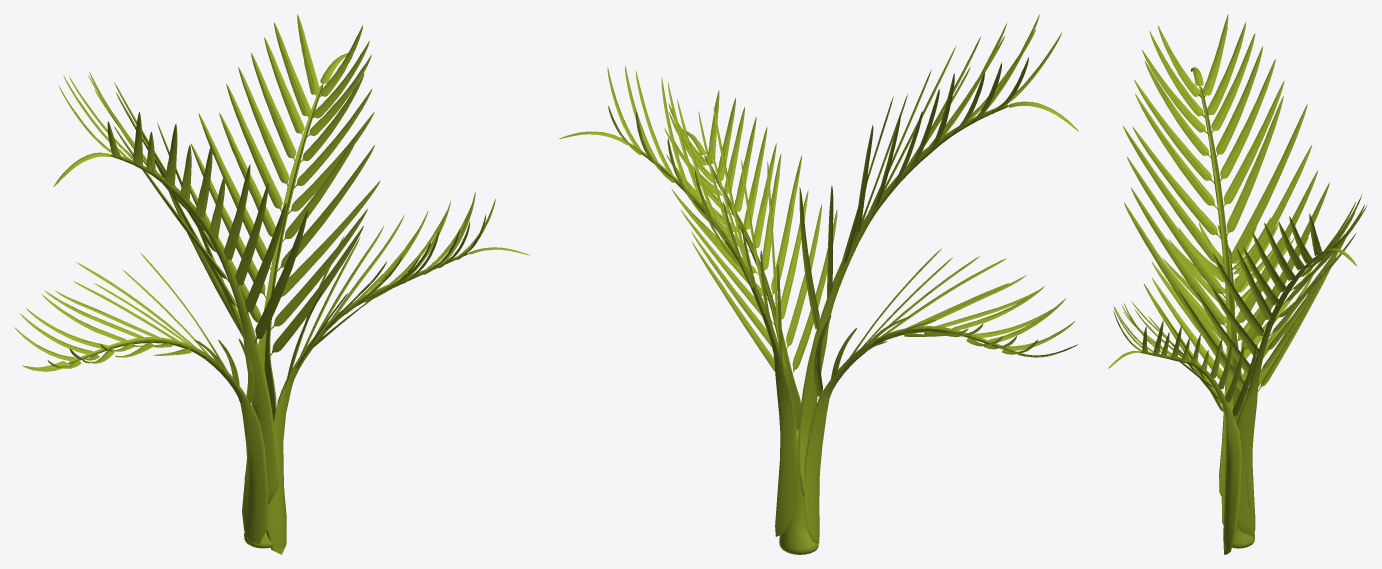
The model's file is Plants_Material__5_0.obj.
The picture shows the model from 3 angles, left to right: view 1: azimuth 30°, elevation 25°; view 2: azimuth 150°, elevation 25°; view 3: azimuth 270°, elevation 25°; orthographic projection. The views are drawn at different scales.
Visible parts, largest first — view 1: Plants_Material__5_0; view 2: Plants_Material__5_0; view 3: Plants_Material__5_0.
Boxes of the visible parts, x1,y1,x2,y2 form: Plants_Material__5_0: [14, 14, 529, 554]; Plants_Material__5_0: [559, 14, 1078, 554]; Plants_Material__5_0: [1108, 14, 1367, 554].
Size of the model in its own units: 0.7435 by 0.8364 by 0.4385.
